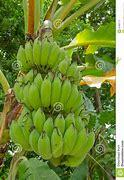banana: (8, 28, 101, 165), (6, 105, 99, 162), (13, 70, 104, 116), (6, 33, 87, 78)
